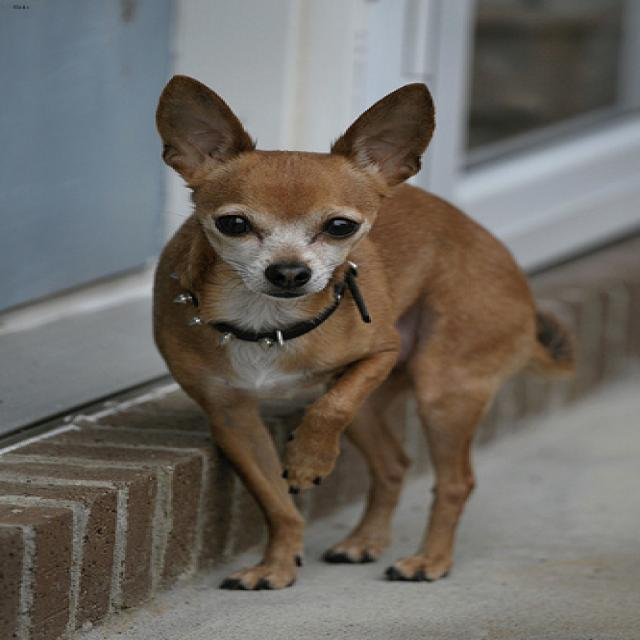dog-chihuahua: (127, 65, 592, 605)
